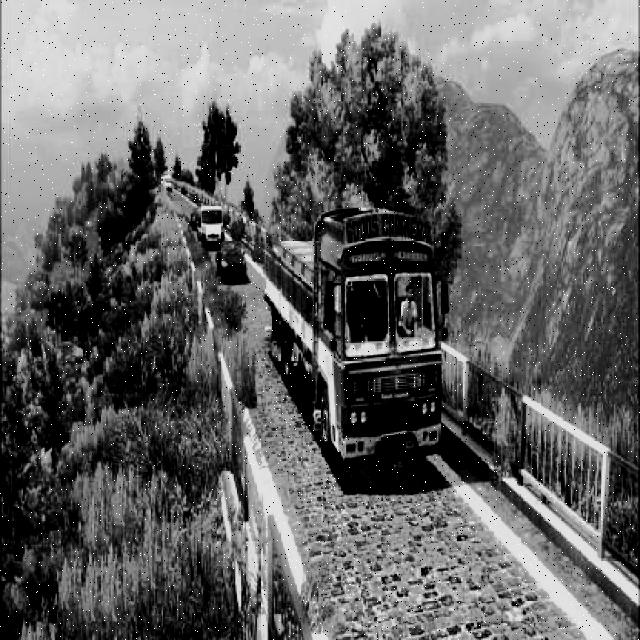HCV: (280, 234, 443, 476)
